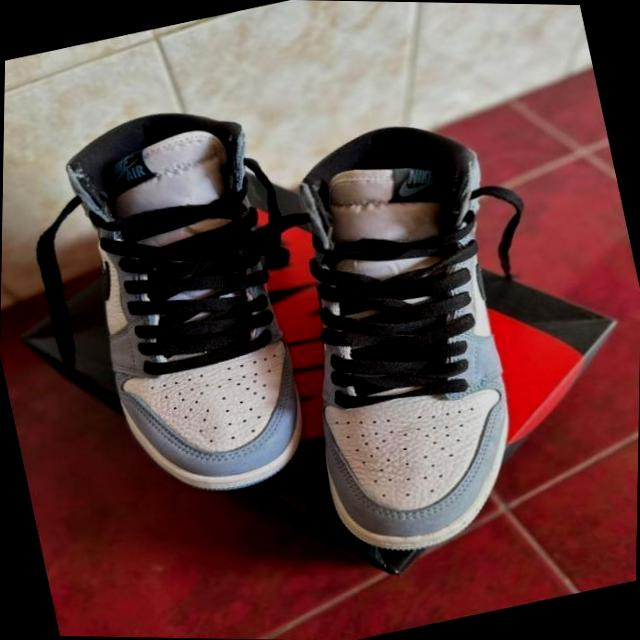nike_fake_jordan: (236, 100, 570, 574), (47, 86, 340, 514)
